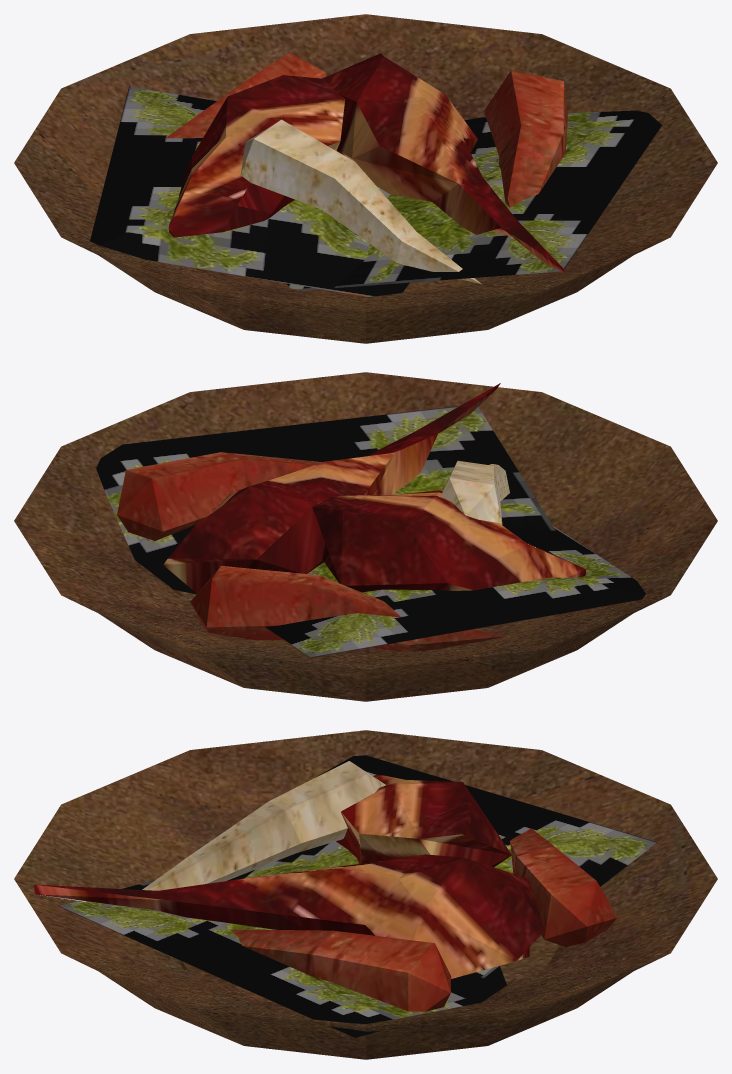
The model's file is ITFO_SHEPARDROAST.glb.
3 views of the same model, one above another, from view 1: azimuth 30°, elevation 25°; view 2: azimuth 150°, elevation 25°; view 3: azimuth 270°, elevation 25° (orthographic).
Visible parts, largest first — view 1: ITFO_SHEPARDROAST; view 2: ITFO_SHEPARDROAST; view 3: ITFO_SHEPARDROAST.
Part boxes in pixels (x1,y1,x2,y2): ITFO_SHEPARDROAST: [14, 14, 717, 343]; ITFO_SHEPARDROAST: [14, 372, 717, 701]; ITFO_SHEPARDROAST: [14, 730, 717, 1059].
Size of the model in its own units: 0.3572 by 0.0788 by 0.3559.
Materials: 5 (4 with a texture image).
